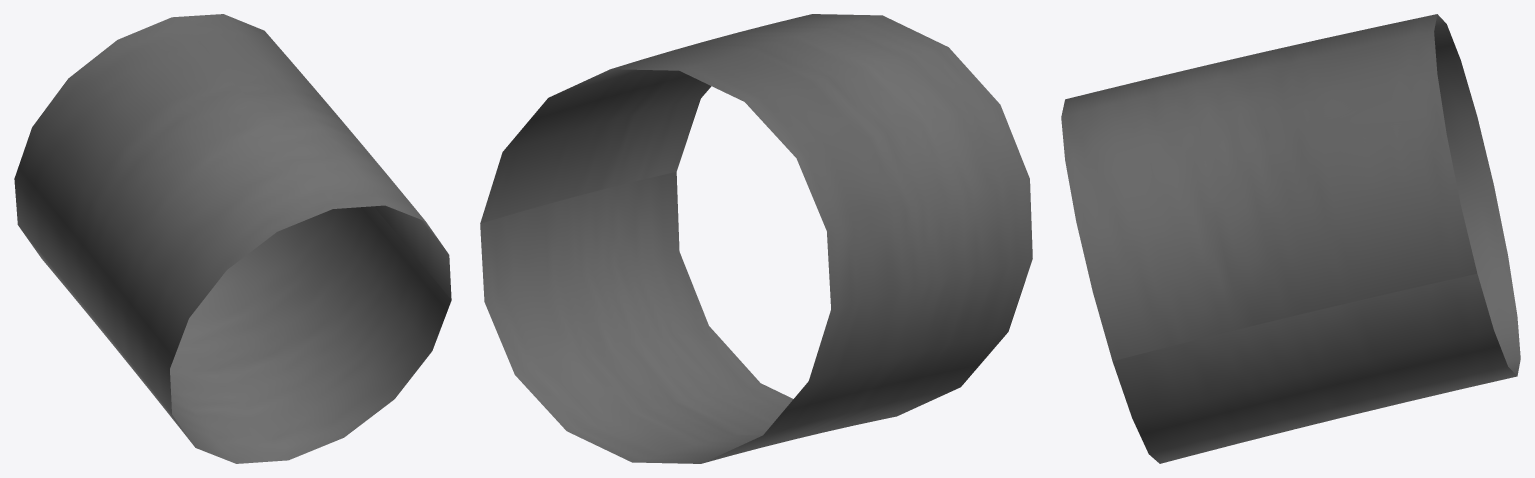
Rendered from mastarmcurve_5x1_c2.obj.
3 renders of one model, left to right at view 1: azimuth 30°, elevation 25°; view 2: azimuth 150°, elevation 25°; view 3: azimuth 270°, elevation 25°, orthographic. The views are drawn at different scales.
Visible parts, largest first — view 1: mastarm_5x1_c2; view 2: mastarm_5x1_c2; view 3: mastarm_5x1_c2.
Part boxes in pixels (bbox=[...]): mastarm_5x1_c2: bbox=[14, 14, 451, 463]; mastarm_5x1_c2: bbox=[480, 14, 1032, 463]; mastarm_5x1_c2: bbox=[1061, 14, 1520, 463].
Size of the model in its own units: 0.553 by 0.6711 by 0.6744.
